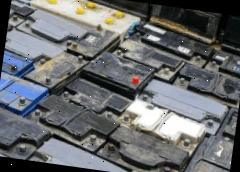electronic: (66, 40, 163, 106)
